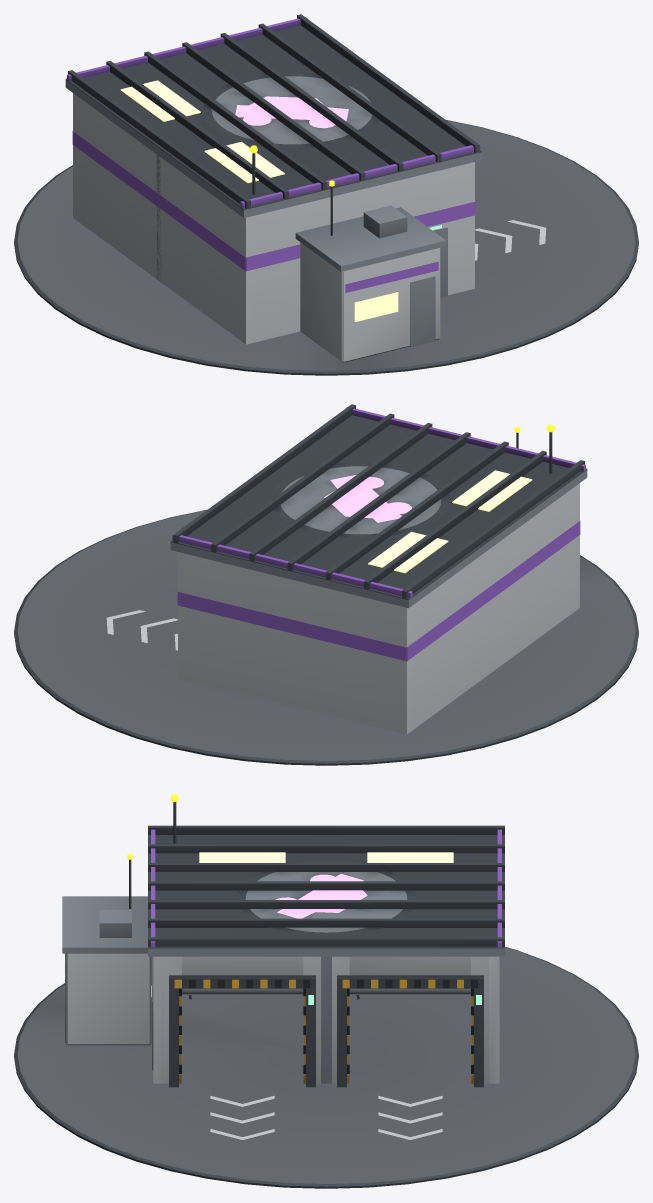
The model's file is rover_depot_m.glb.
3 views of the same model, one above another, from view 1: azimuth 30°, elevation 25°; view 2: azimuth 150°, elevation 25°; view 3: azimuth 270°, elevation 25° (orthographic).
Visible parts, largest first — view 1: Base, Roof, Lights; view 2: Base, Roof, Lights; view 3: Base, Roof, Lights.
Part boxes in pixels (x1,y1,x2,y2): Base: (14,93,638,375); Roof: (65,14,482,235); Lights: (120,80,441,321); Base: (14,483,638,765); Roof: (170,404,587,608); Lights: (368,424,554,573); Base: (14,896,638,1188); Roof: (129,802,504,956); Lights: (127,794,481,1004).
Size of the model in its own units: 17.5 by 5.87 by 17.5.
